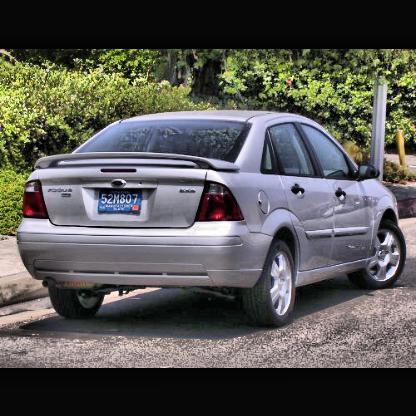Ford Focus Sedan 2007: (17, 110, 408, 332)
